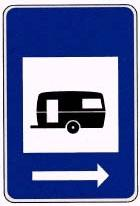parque para reboques de campismo: (0, 2, 140, 200)
